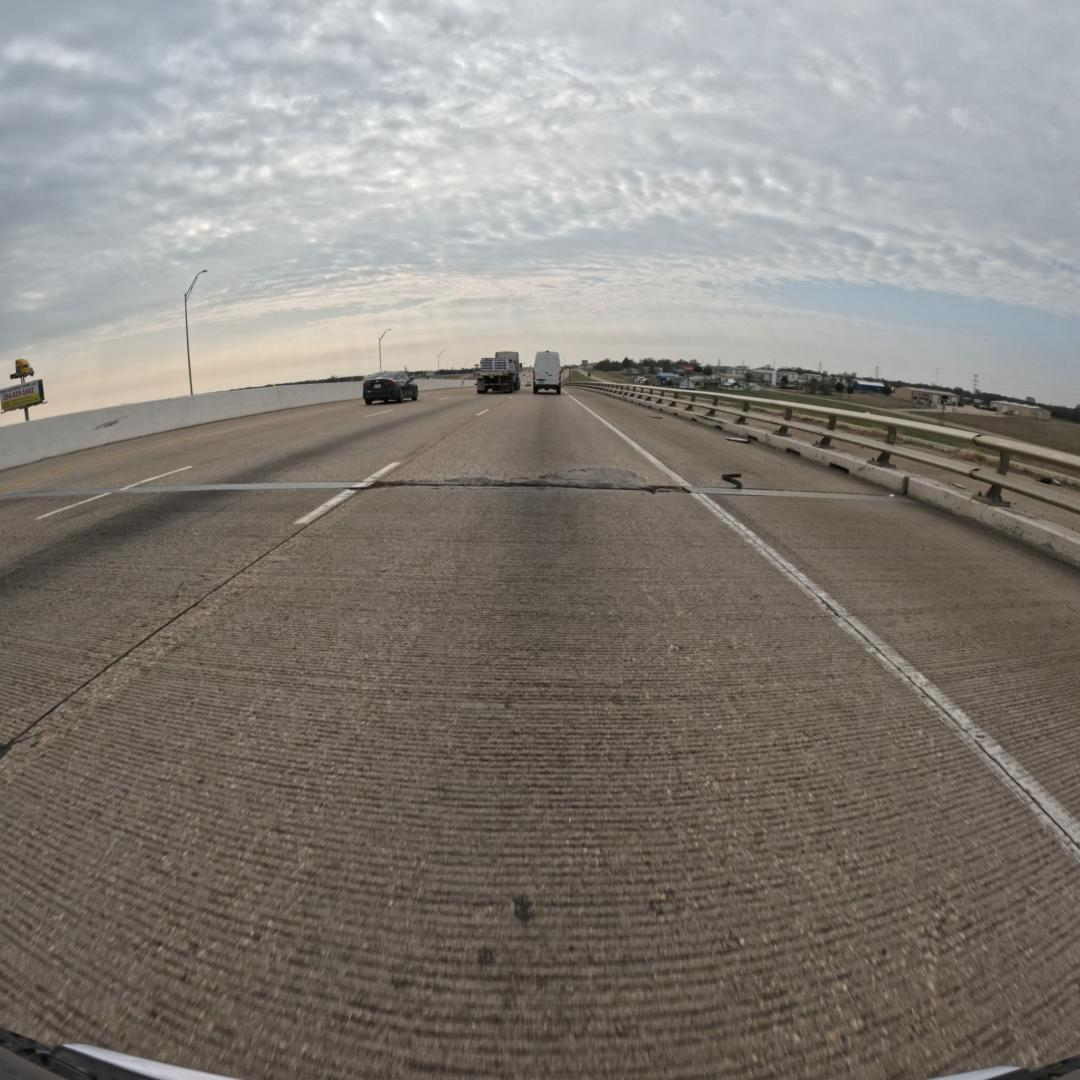lane0: (0, 394, 1080, 1080)
lane1: (0, 394, 506, 752)
